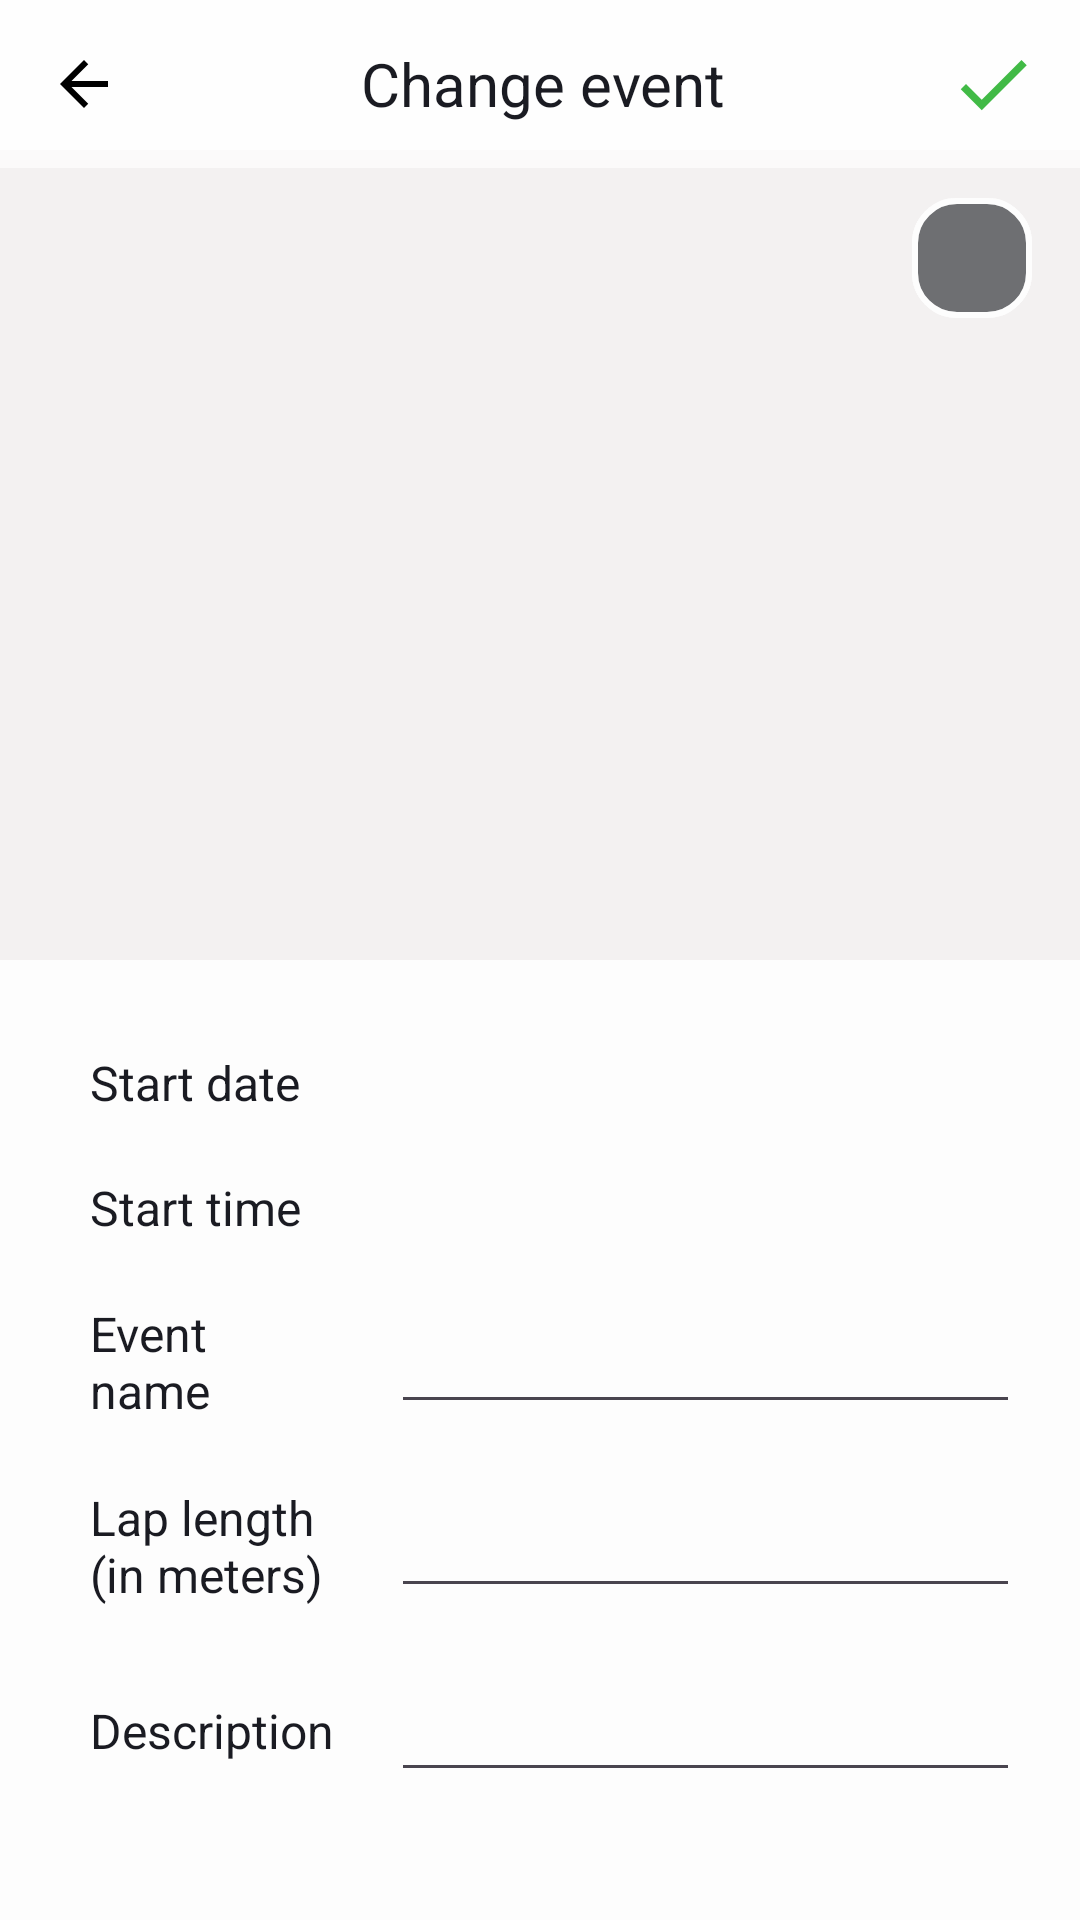

Point at icon controls on the screen. Image size 1080×1920, points as point (x, y).
back: point (84, 84)
done: point (994, 85)
